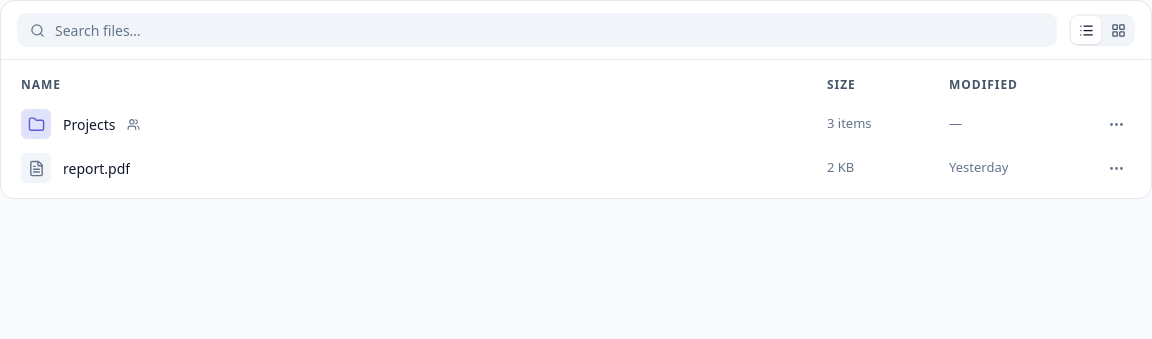
Test: FileManager › uses labels.menuRename for the action-menu label
Click the 1st button with class "lyra-dropdown__trigger" at (1116, 124), box left=1108, top=116, right=1124, bottom=132
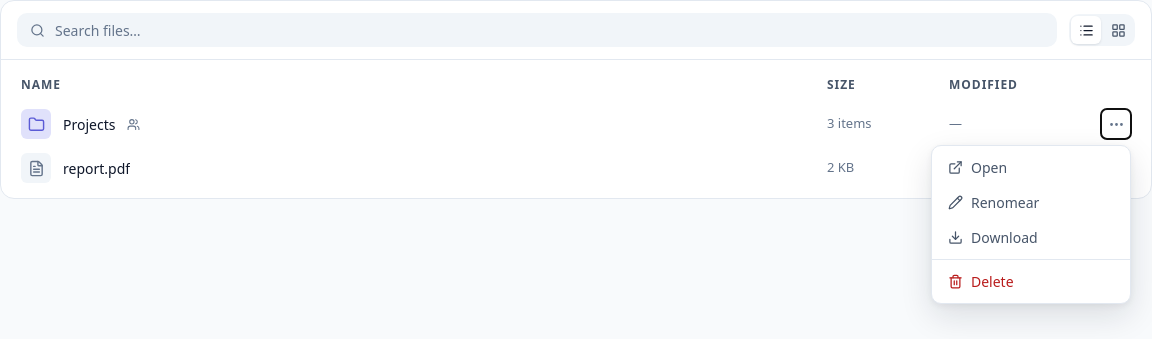
Now the menu item "Renomear" is shown, box left=936, top=185, right=1126, bottom=220
